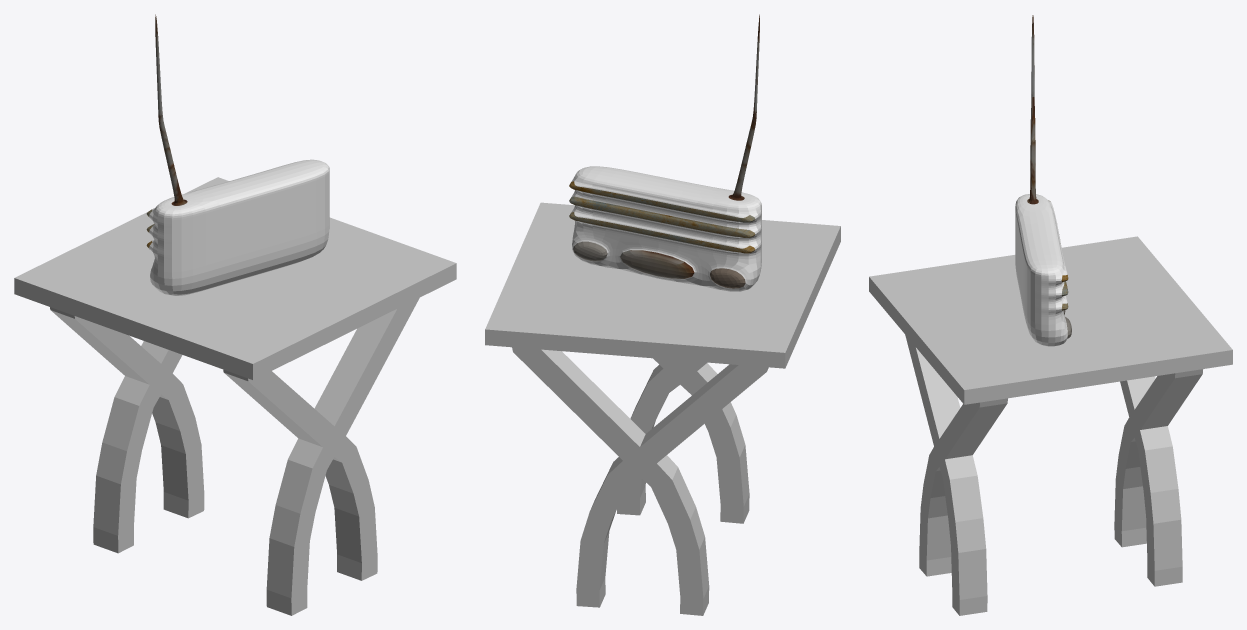
Rendered from radio-and-table.fbx.
3 views of the same model, side by side, from view 1: azimuth 30°, elevation 25°; view 2: azimuth 150°, elevation 25°; view 3: azimuth 270°, elevation 25° (orthographic). The views are drawn at different scales.
Visible parts, largest first — view 1: radio-table, radio; view 2: radio-table, radio; view 3: radio-table, radio.
Part boxes in pixels (left/top/right/bottom): radio-table: left=14, top=177, right=456, bottom=615; radio: left=146, top=14, right=329, bottom=295; radio-table: left=485, top=202, right=840, bottom=615; radio: left=569, top=14, right=761, bottom=291; radio-table: left=869, top=236, right=1232, bottom=615; radio: left=1015, top=15, right=1071, bottom=346.
Size of the model in its own units: 59.98 by 94.85 by 59.98.
